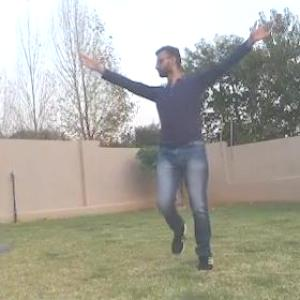takeoff: (70, 12, 280, 274)
